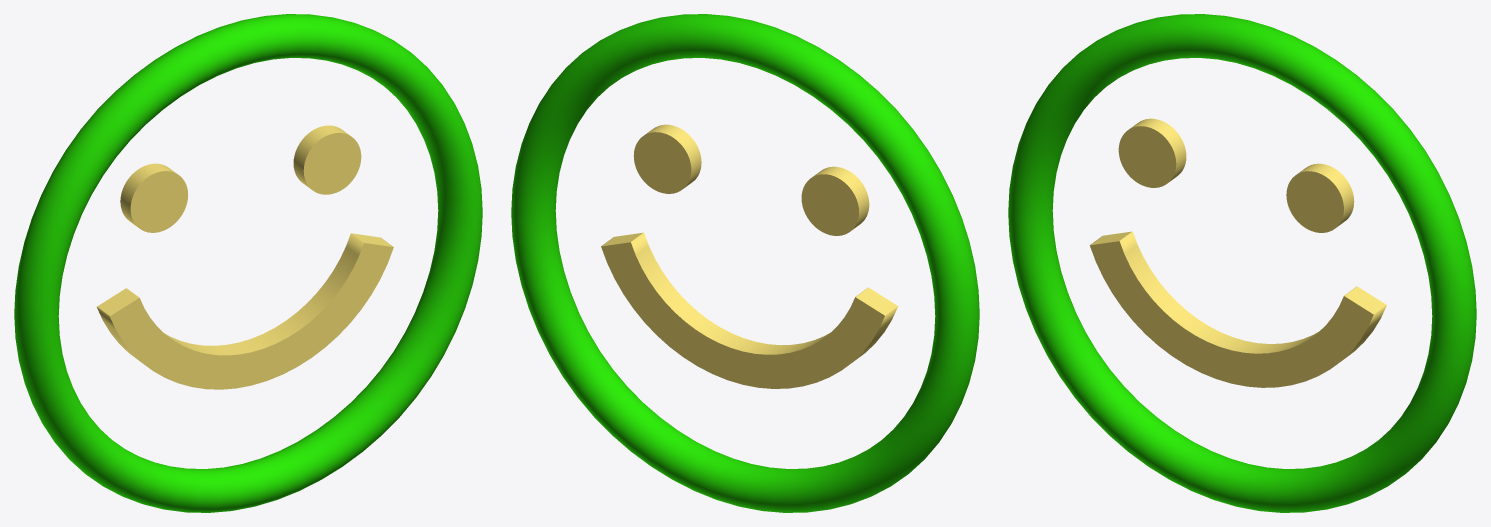
File: smile7.glb
3 renders of one model, left to right at view 1: azimuth 30°, elevation 25°; view 2: azimuth 150°, elevation 25°; view 3: azimuth 330°, elevation 25°, orthographic.
Parts seen in each view (by area): view 1: torus, Curve.003, Curve.002, Curve.001; view 2: torus, Curve.003, Curve.001, Curve.002; view 3: torus, Curve.003, Curve.001, Curve.002.
Boxes of the visible parts, <box> form: torus: <box>14,14,482,512</box>; Curve.003: <box>97,233,393,389</box>; Curve.002: <box>293,125,361,194</box>; Curve.001: <box>120,163,187,232</box>; torus: <box>511,14,979,512</box>; Curve.003: <box>601,232,898,388</box>; Curve.001: <box>801,166,869,235</box>; Curve.002: <box>633,124,701,193</box>; torus: <box>1008,14,1476,512</box>; Curve.003: <box>1090,231,1386,387</box>; Curve.001: <box>1118,118,1186,187</box>; Curve.002: <box>1286,163,1354,232</box>.
Size of the model in its own units: 7.2 by 7.2 by 0.6496.
